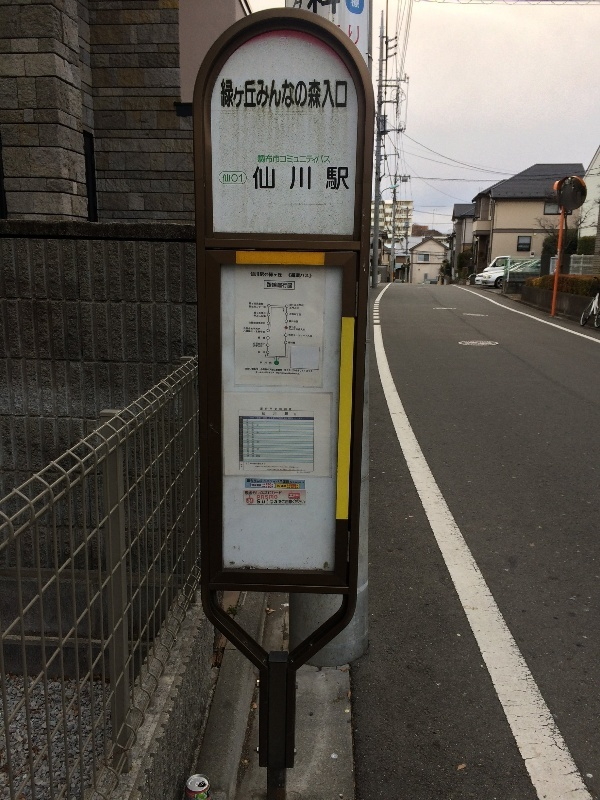text: (225, 78, 240, 108), (241, 78, 256, 108), (257, 78, 272, 108), (273, 78, 288, 108), (289, 78, 304, 108), (305, 78, 320, 108), (321, 78, 336, 108), (257, 166, 272, 190), (273, 166, 288, 190), (289, 166, 304, 190), (305, 166, 320, 190), (321, 166, 336, 190), (337, 78, 347, 108), (337, 166, 349, 190), (321, 1, 336, 17), (308, 1, 320, 17), (353, 25, 360, 47), (273, 155, 288, 164), (289, 155, 304, 164), (305, 155, 320, 164), (225, 174, 240, 183), (258, 155, 272, 164), (293, 1, 304, 10), (290, 304, 304, 311), (221, 78, 224, 108), (321, 155, 331, 164), (257, 367, 272, 373), (273, 367, 288, 373), (289, 367, 304, 373), (273, 479, 289, 484), (289, 273, 304, 278), (273, 283, 288, 288), (257, 479, 272, 484), (257, 495, 272, 500), (253, 166, 256, 190), (349, 25, 352, 47), (337, 1, 341, 17), (246, 367, 256, 373), (273, 412, 288, 416), (257, 491, 272, 495), (257, 500, 272, 504), (290, 313, 304, 317), (353, 1, 360, 9), (277, 484, 288, 489), (257, 312, 266, 318), (273, 273, 283, 278), (244, 327, 256, 331), (257, 342, 265, 348), (289, 501, 305, 504), (289, 321, 304, 324), (289, 328, 304, 331), (289, 334, 304, 337), (257, 372, 272, 375), (273, 372, 288, 375), (273, 408, 288, 411), (245, 491, 256, 495), (258, 337, 272, 340), (258, 351, 272, 354), (305, 367, 312, 373), (297, 484, 304, 490), (262, 412, 272, 416), (248, 479, 256, 484), (291, 484, 304, 487), (244, 330, 256, 333), (260, 361, 272, 364), (289, 372, 301, 375), (257, 484, 266, 488), (273, 491, 282, 495), (257, 272, 264, 277), (305, 273, 312, 278), (261, 408, 272, 411), (257, 321, 265, 325), (289, 469, 305, 471), (289, 326, 304, 328), (257, 466, 272, 468), (273, 466, 288, 468), (273, 469, 288, 471), (249, 321, 256, 325), (290, 482, 304, 484), (257, 306, 266, 309), (247, 463, 256, 466), (257, 463, 266, 466), (279, 501, 288, 504), (291, 487, 304, 489), (251, 272, 256, 277), (267, 283, 272, 288), (273, 495, 278, 500), (257, 330, 265, 333), (305, 334, 313, 337), (257, 302, 264, 305), (249, 306, 256, 309), (289, 466, 299, 468), (273, 500, 278, 504), (241, 174, 243, 183), (250, 302, 256, 305), (253, 342, 256, 348), (289, 342, 295, 345), (266, 483, 272, 486), (252, 484, 256, 488), (269, 273, 272, 278), (289, 283, 292, 288), (254, 312, 256, 318), (257, 327, 260, 331), (266, 486, 272, 488), (223, 174, 224, 183), (289, 408, 292, 411), (268, 469, 272, 471), (297, 472, 304, 473), (305, 472, 311, 473), (289, 484, 290, 489), (255, 466, 256, 468)
